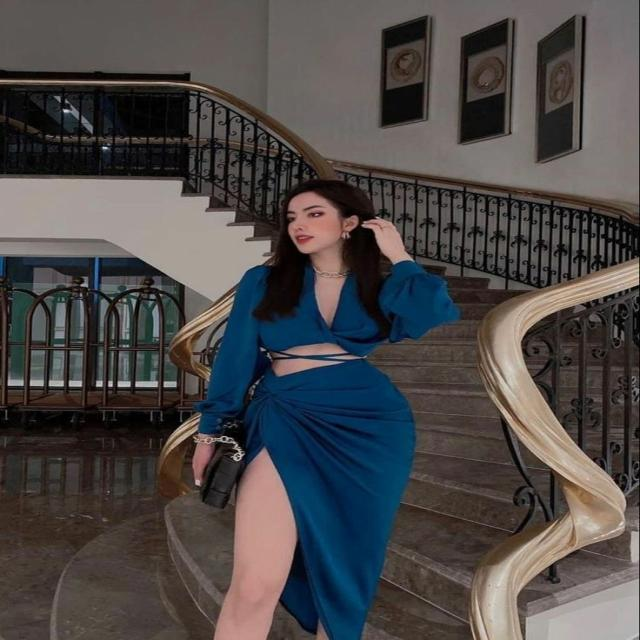female-dress: (198, 250, 448, 619)
